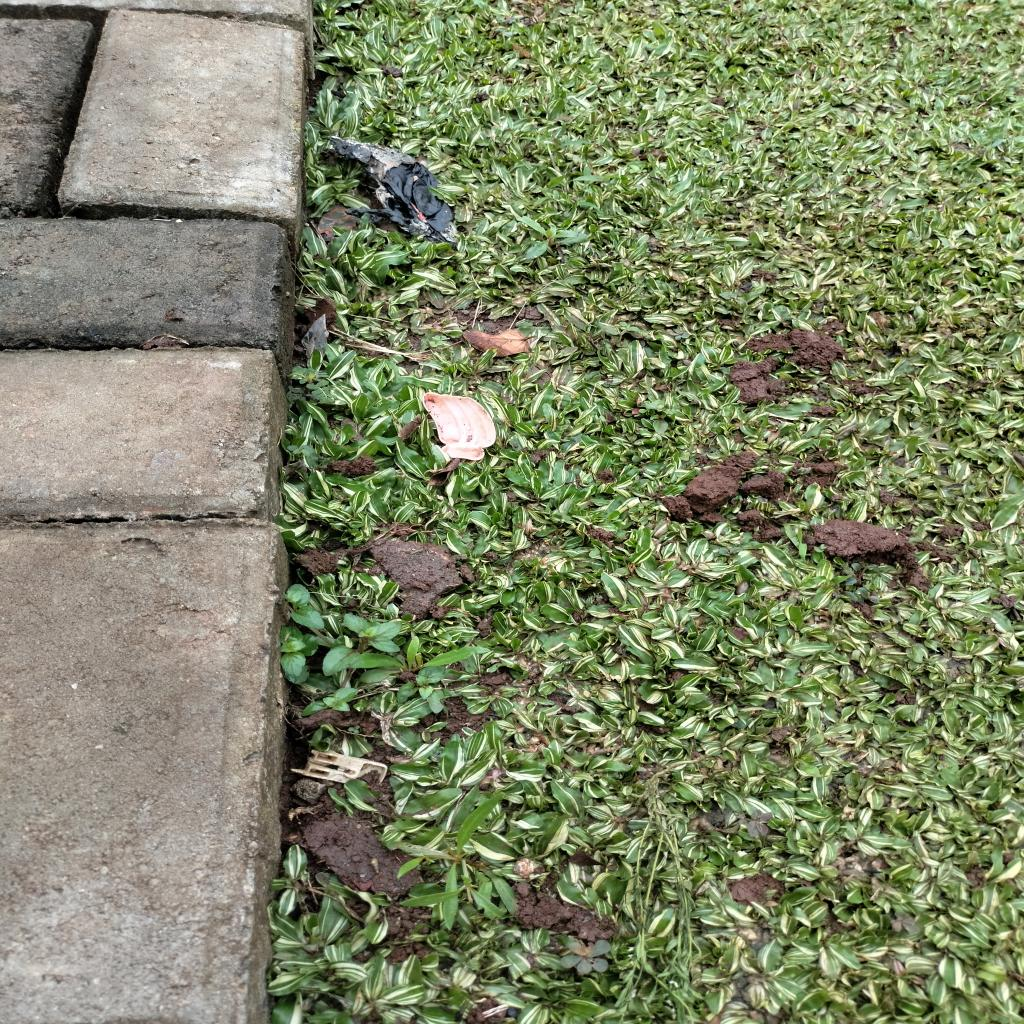buah daun: (557, 936, 620, 980), (287, 361, 336, 405), (669, 325, 690, 344)
clover: (430, 334, 448, 348)
gingseng jawa: (391, 792, 509, 934), (363, 646, 494, 677), (520, 212, 584, 258)
rambat atas: (546, 140, 563, 170)
rambat bawah: (712, 59, 744, 81)
tunggang tengah: (728, 808, 777, 836)
ungu tunggang: (333, 614, 403, 654), (392, 667, 448, 712), (282, 579, 326, 631), (281, 623, 319, 683), (299, 686, 365, 718), (644, 397, 679, 434)
